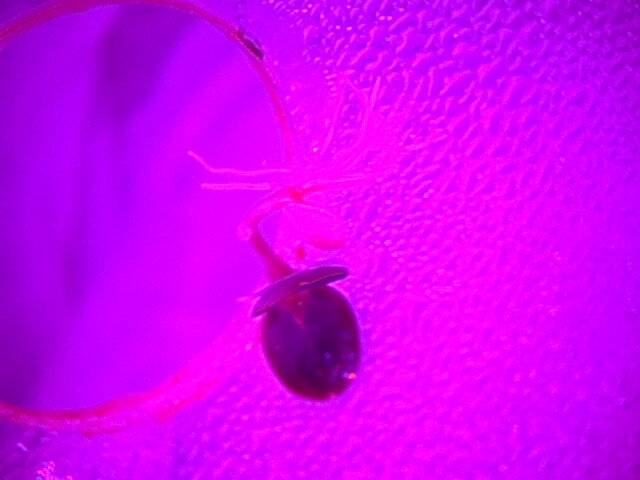seedling: (227, 175, 384, 421)
